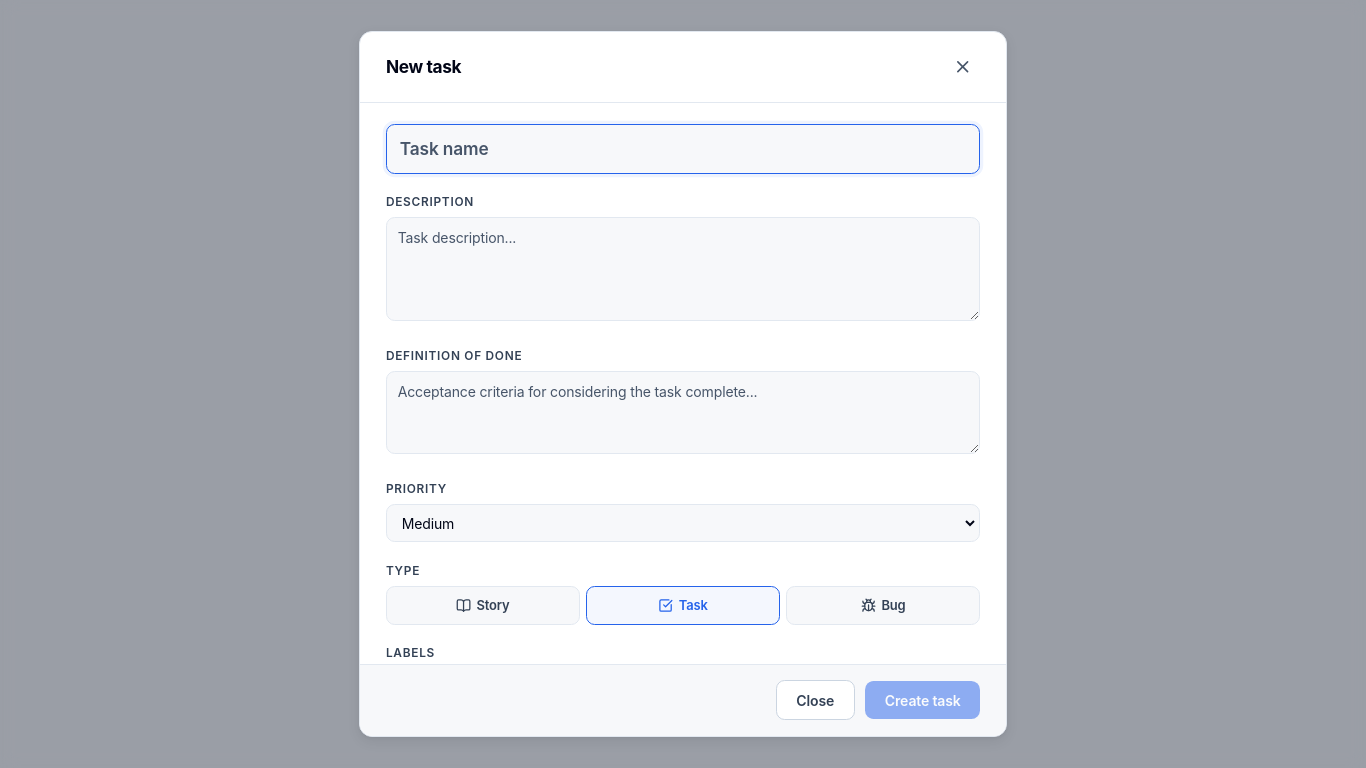
Test: kanban modals coverage › shows the translated error when task creation fails
Type "Broken task" into the field with placeholder "Task name" at (683, 149), box [386, 124, 980, 174]
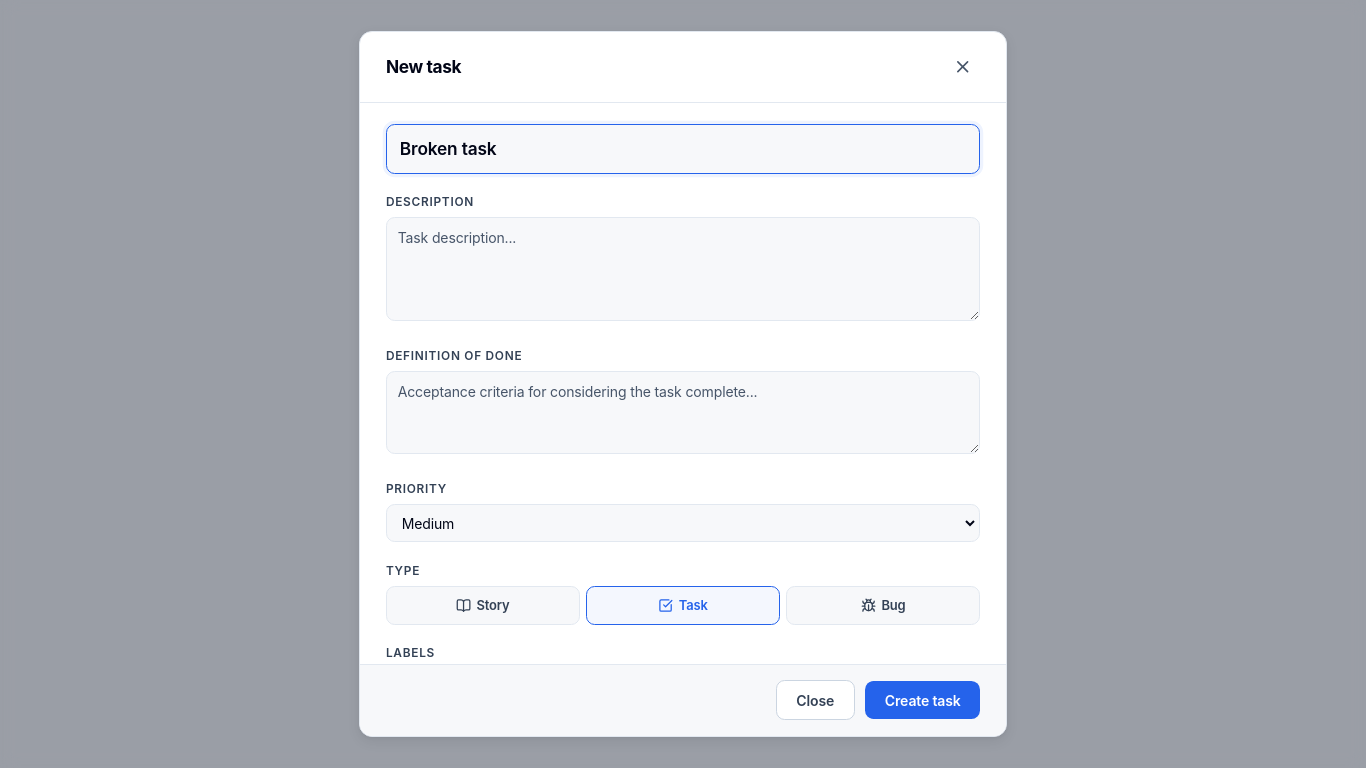
Click the button "Create task" at (923, 700), box [865, 681, 980, 719]
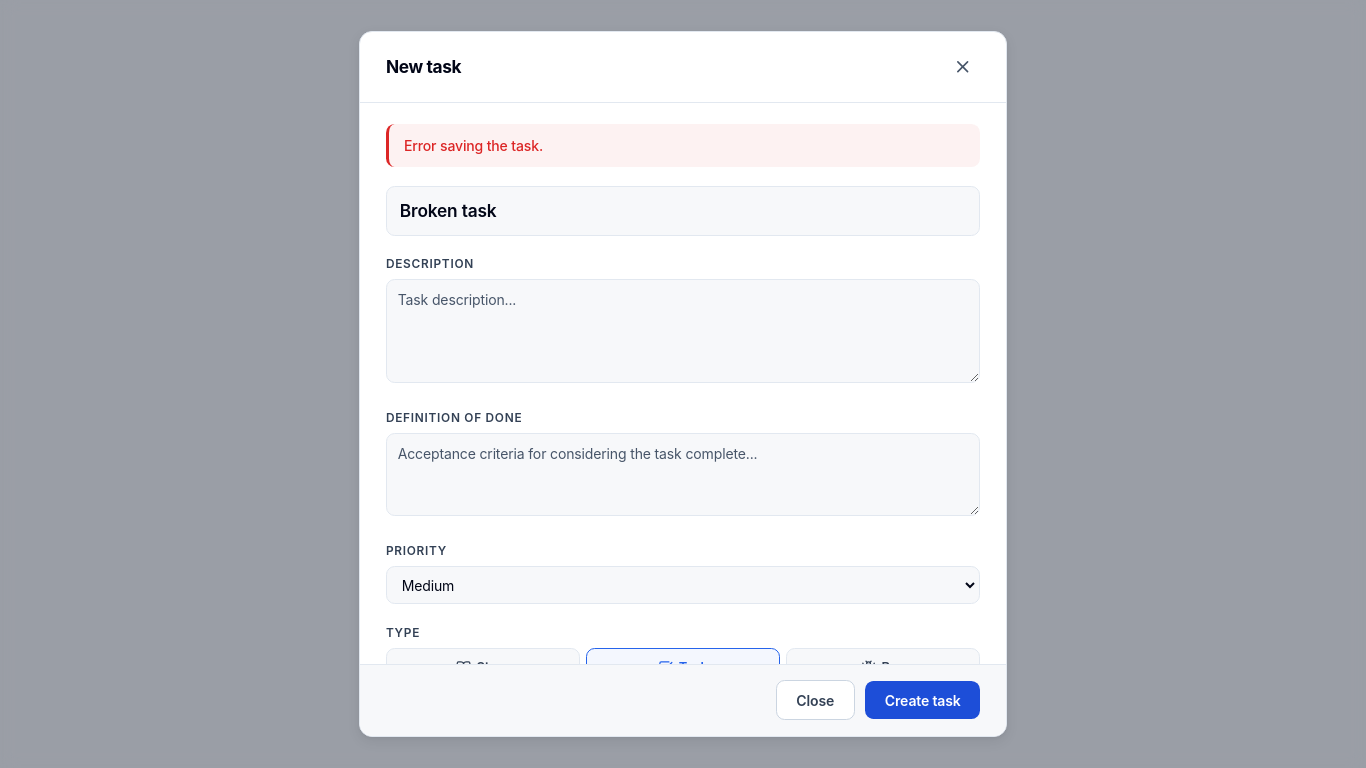
Expected: the text "Error saving the task." is shown, [386, 124, 980, 167]
